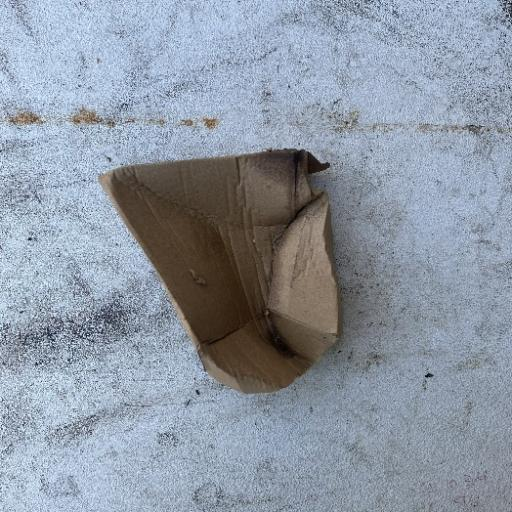Cardboard: (96, 146, 344, 396)
